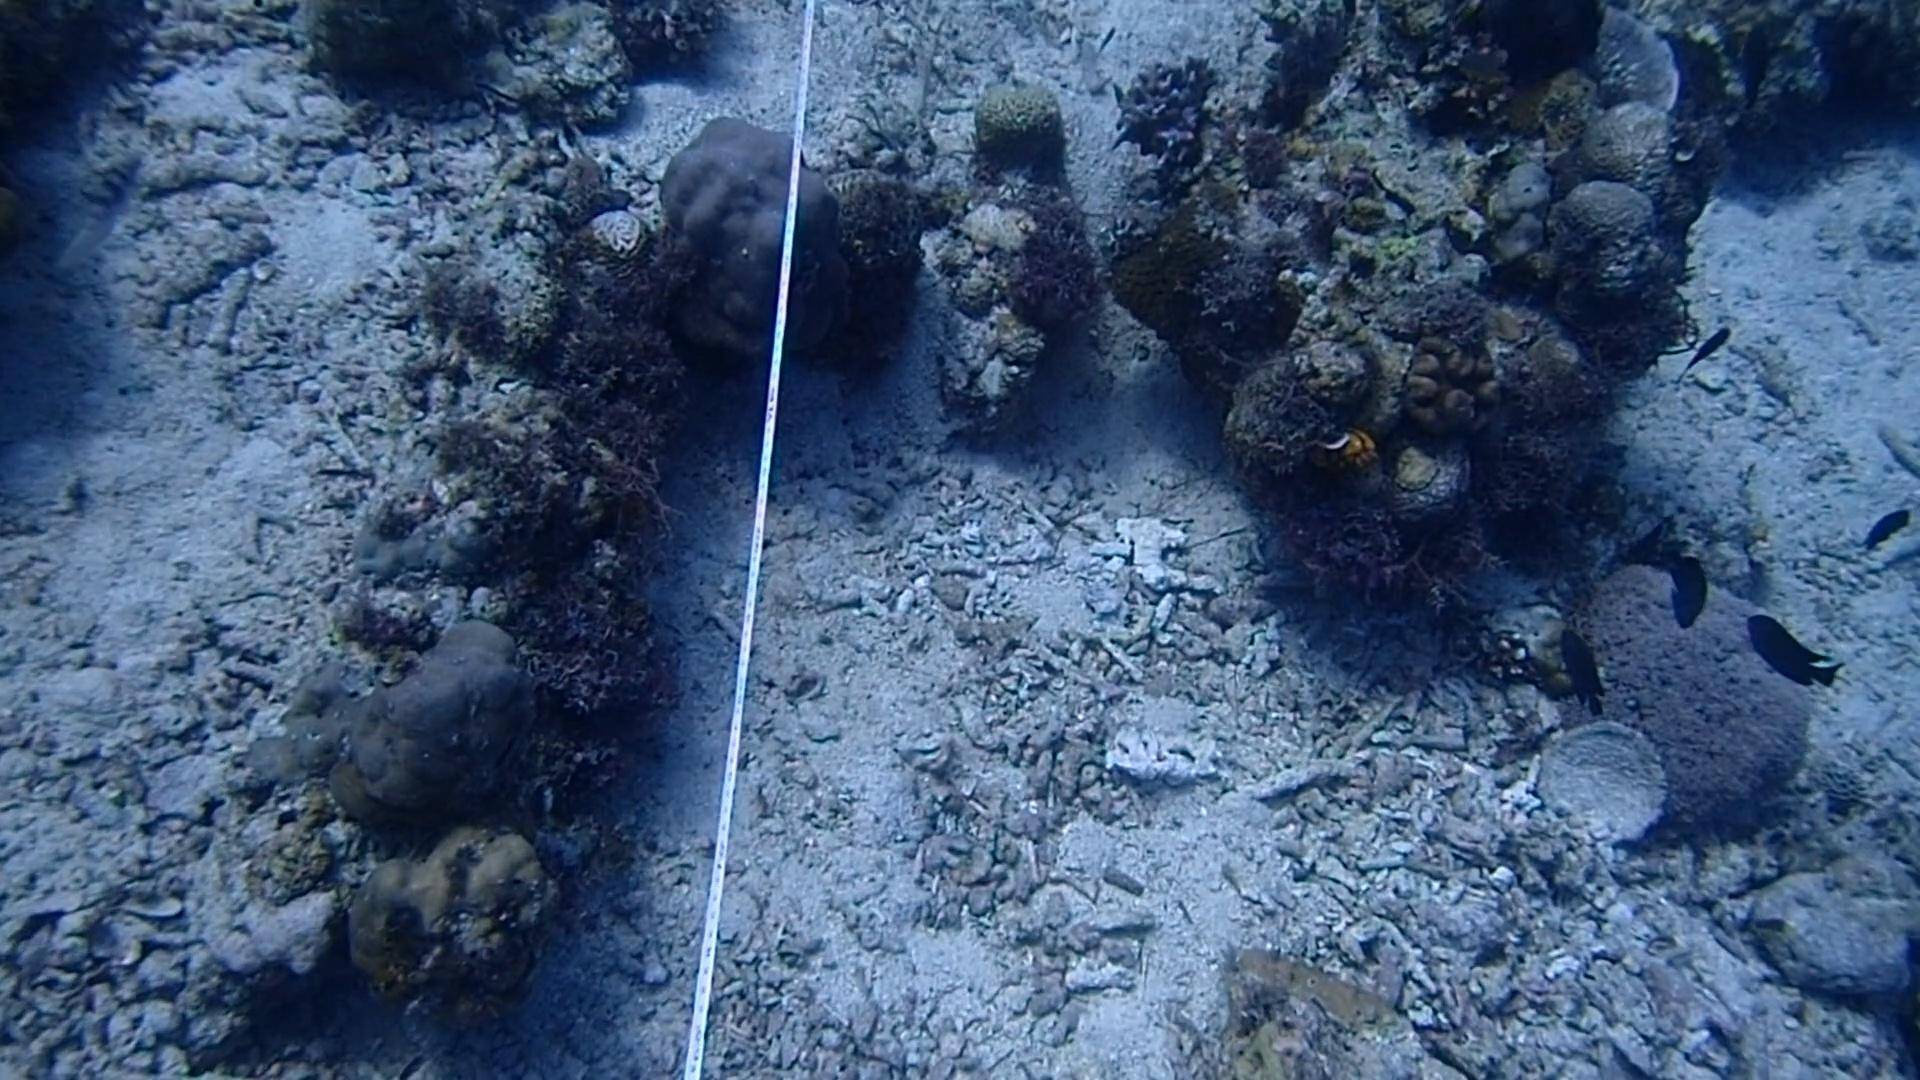Dark Fish: (1735, 603, 1854, 699), (1655, 537, 1727, 628), (1552, 618, 1610, 717), (1672, 309, 1747, 384), (1840, 492, 1920, 558), (1729, 9, 1783, 102)
Light Fish w Back Stripes: (54, 138, 148, 266)
